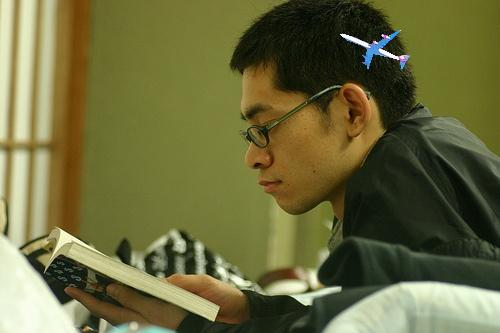tampered: (341, 31, 410, 69)
